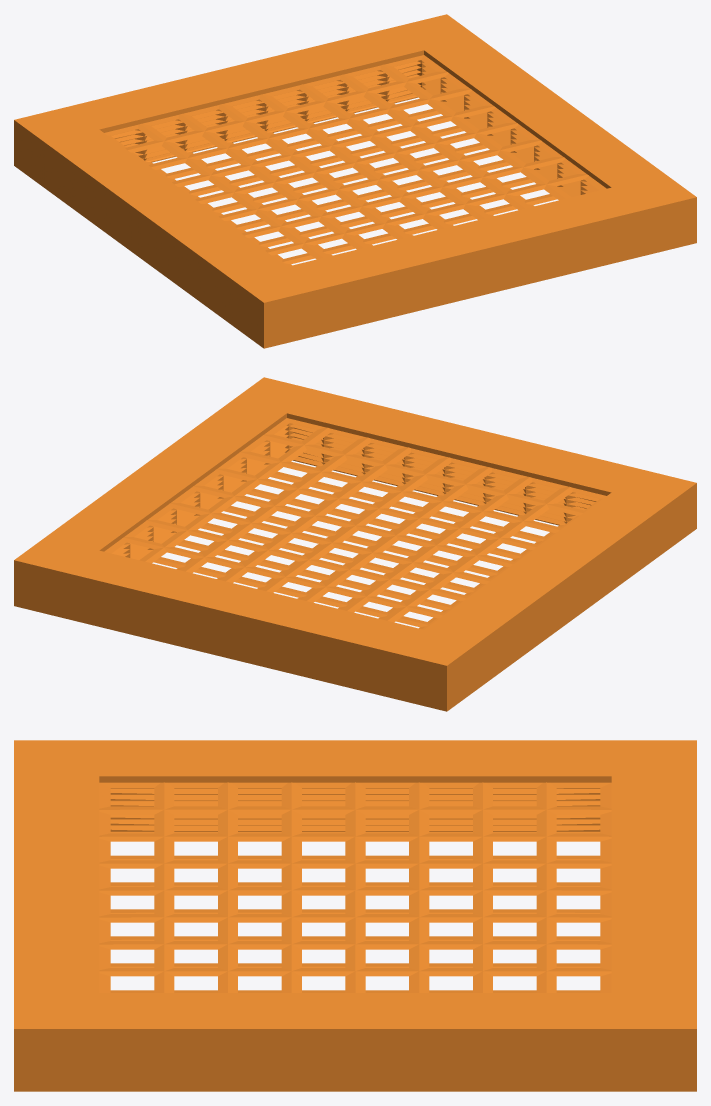
The model's file is Hatch.fbx.
3 views of the same model, one above another, from view 1: azimuth 30°, elevation 25°; view 2: azimuth 150°, elevation 25°; view 3: azimuth 270°, elevation 25° (orthographic). The views are drawn at different scales.
Visible parts, largest first — view 1: Cube, Cube.001; view 2: Cube, Cube.001; view 3: Cube, Cube.001.
Boxes of the visible parts, box(x1,y1,x2,y2) form: Cube: box(14, 14, 696, 348); Cube.001: box(104, 55, 606, 266); Cube: box(14, 377, 696, 711); Cube.001: box(104, 418, 606, 629); Cube: box(14, 740, 696, 1091); Cube.001: box(99, 782, 611, 992).
Bounding box in the file's own units: 200 × 20.24 × 200.
